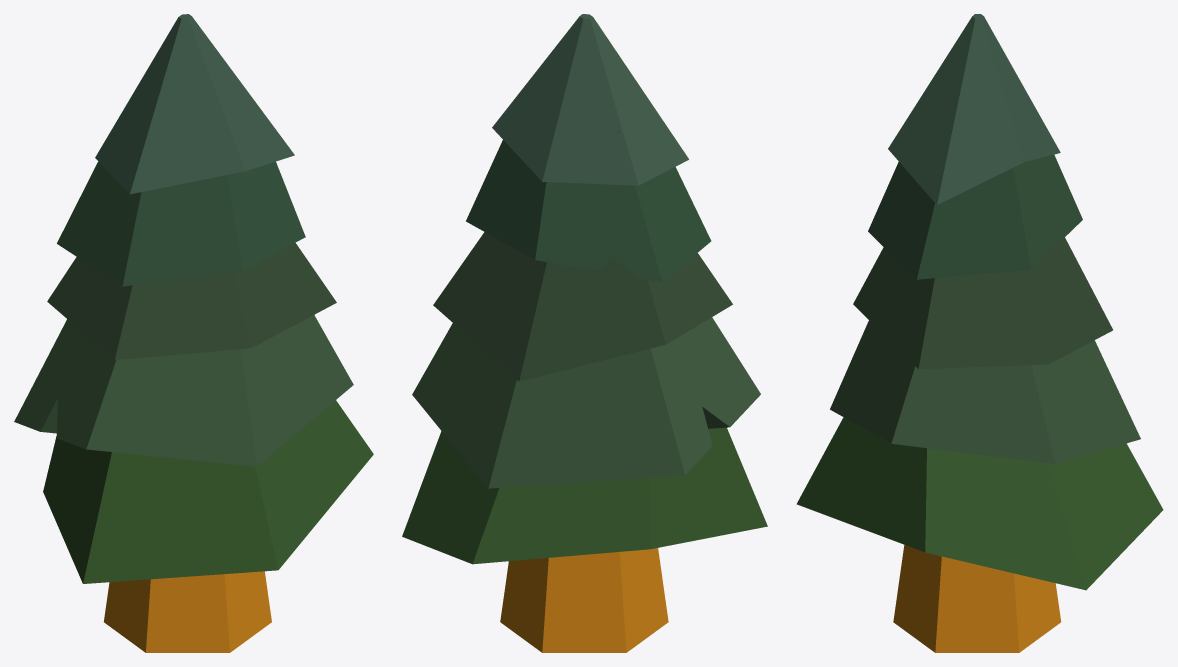
The model's file is Tree_Two_b_3.glb.
3 renders of one model, left to right at view 1: azimuth 30°, elevation 25°; view 2: azimuth 150°, elevation 25°; view 3: azimuth 270°, elevation 25°, orthographic.
Parts seen in each view (by area): view 1: Cylinder.013, Cylinder.014, Cylinder.016, Cylinder.015, Cylinder.017, Cylinder.012; view 2: Cylinder.014, Cylinder.013, Cylinder.015, Cylinder.017, Cylinder.016, Cylinder.012; view 3: Cylinder.013, Cylinder.014, Cylinder.015, Cylinder.016, Cylinder.017, Cylinder.012.
Boxes of the visible parts, left/top/right/bottom form: Cylinder.013: left=43, top=400, right=373, bottom=583; Cylinder.014: left=14, top=315, right=353, bottom=466; Cylinder.016: left=57, top=161, right=305, bottom=286; Cylinder.015: left=47, top=243, right=336, bottom=359; Cylinder.017: left=95, top=14, right=294, bottom=194; Cylinder.012: left=104, top=571, right=271, bottom=652; Cylinder.014: left=412, top=317, right=760, bottom=488; Cylinder.013: left=402, top=427, right=767, bottom=564; Cylinder.015: left=433, top=232, right=732, bottom=381; Cylinder.017: left=492, top=14, right=688, bottom=185; Cylinder.016: left=466, top=131, right=711, bottom=282; Cylinder.012: left=500, top=548, right=668, bottom=652; Cylinder.013: left=796, top=417, right=1163, bottom=590; Cylinder.014: left=830, top=320, right=1140, bottom=463; Cylinder.015: left=853, top=237, right=1112, bottom=369; Cylinder.016: left=868, top=155, right=1082, bottom=279; Cylinder.017: left=888, top=14, right=1060, bottom=204; Cylinder.012: left=893, top=545, right=1061, bottom=652.
Size of the model in its own units: 4.17 by 7.95 by 4.37.
